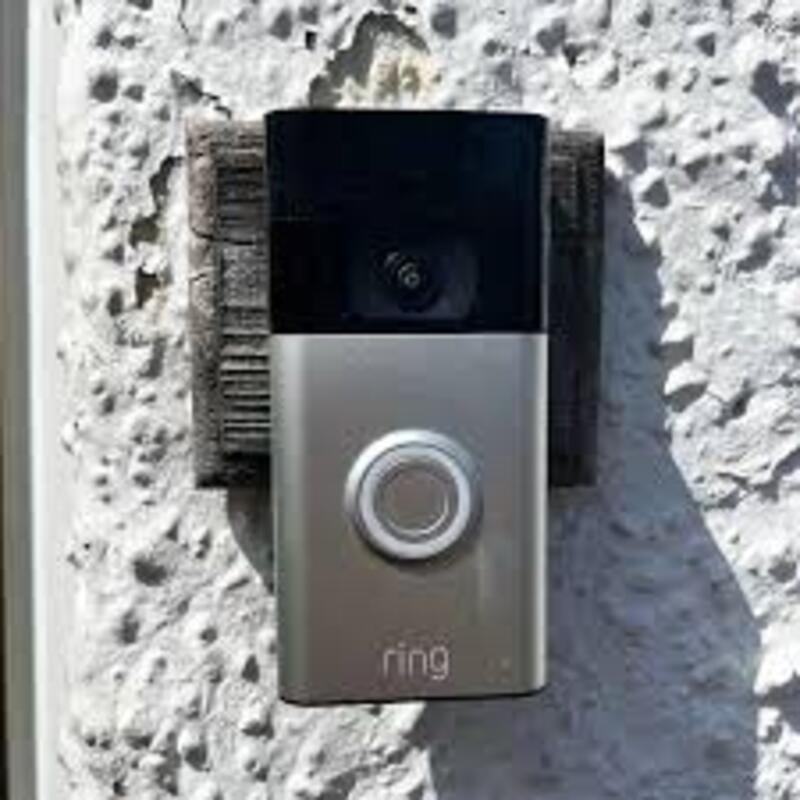doorbell: (249, 100, 558, 701)
